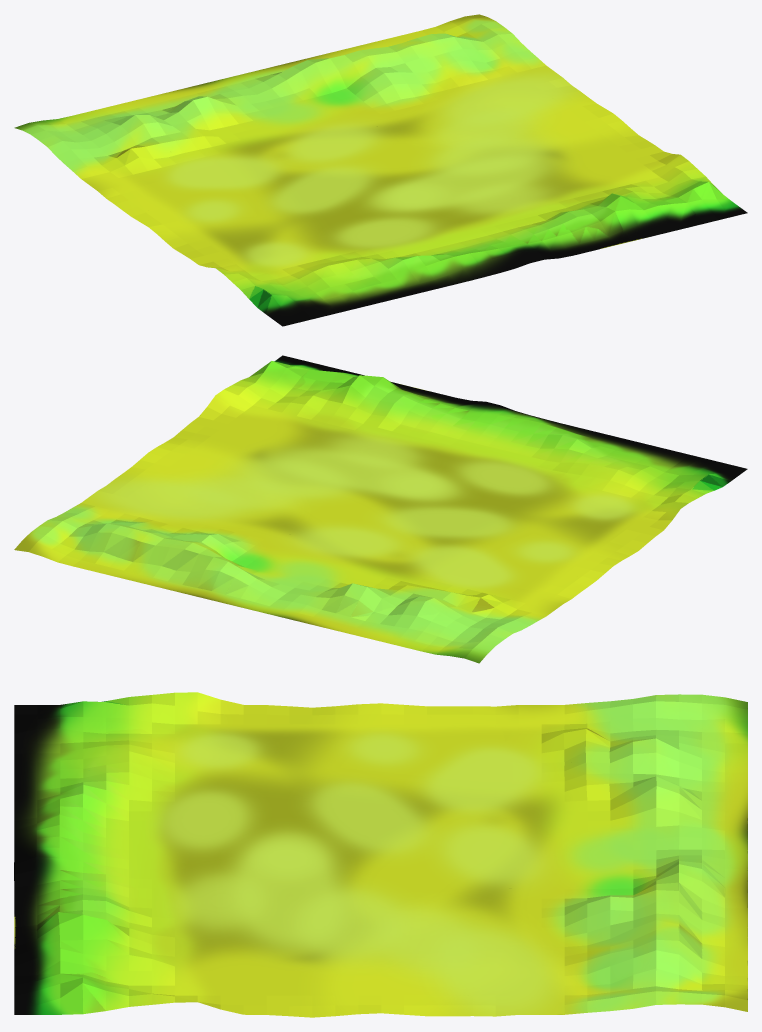
Rendered from suelo1.dae.
The picture shows the model from 3 angles, top to bottom: view 1: azimuth 30°, elevation 25°; view 2: azimuth 150°, elevation 25°; view 3: azimuth 270°, elevation 25°; orthographic projection. The views are drawn at different scales.
Parts seen in each view (by area): view 1: Plane; view 2: Plane; view 3: Plane.
Boxes of the visible parts, x1,y1,x2,y2 form: Plane: (14,14,747,326); Plane: (14,355,747,663); Plane: (14,692,747,1017).
Bounding box in the file's own units: 14.55 × 14.56 × 0.7612.
Materials: 1 (1 with a texture image).
